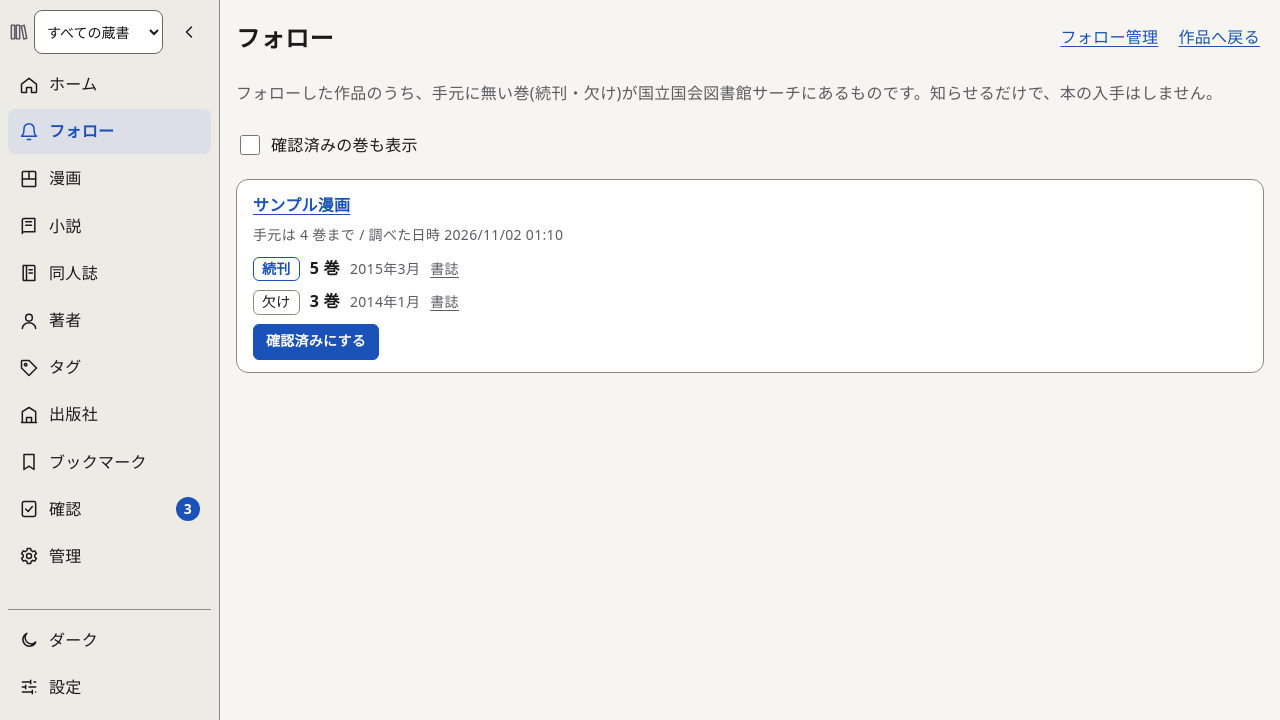
フォロー › 続刊・欠けが新しい発売日順に出て、確認済みにすると消える
Click the button "確認済みにする" at (316, 342), box left=253, top=324, right=379, bottom=360
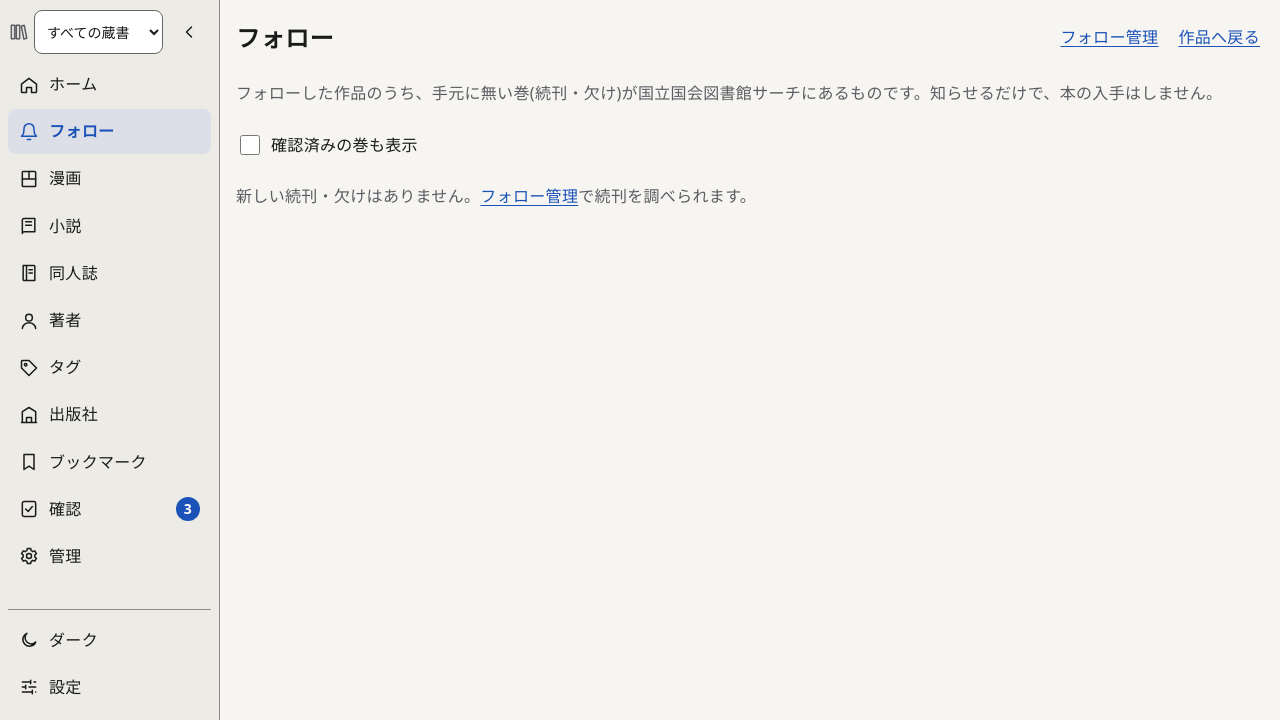
Expected: the text "新しい続刊・欠けはありません。 フォロー管理 で続刊を調べられます。" is shown, left=236, top=185, right=756, bottom=207
// 確認済みの巻も表示に切り替えると、確認済みとして出る
Click the checkbox labelled "確認済みの巻も表示" at (250, 145), box left=240, top=135, right=260, bottom=155
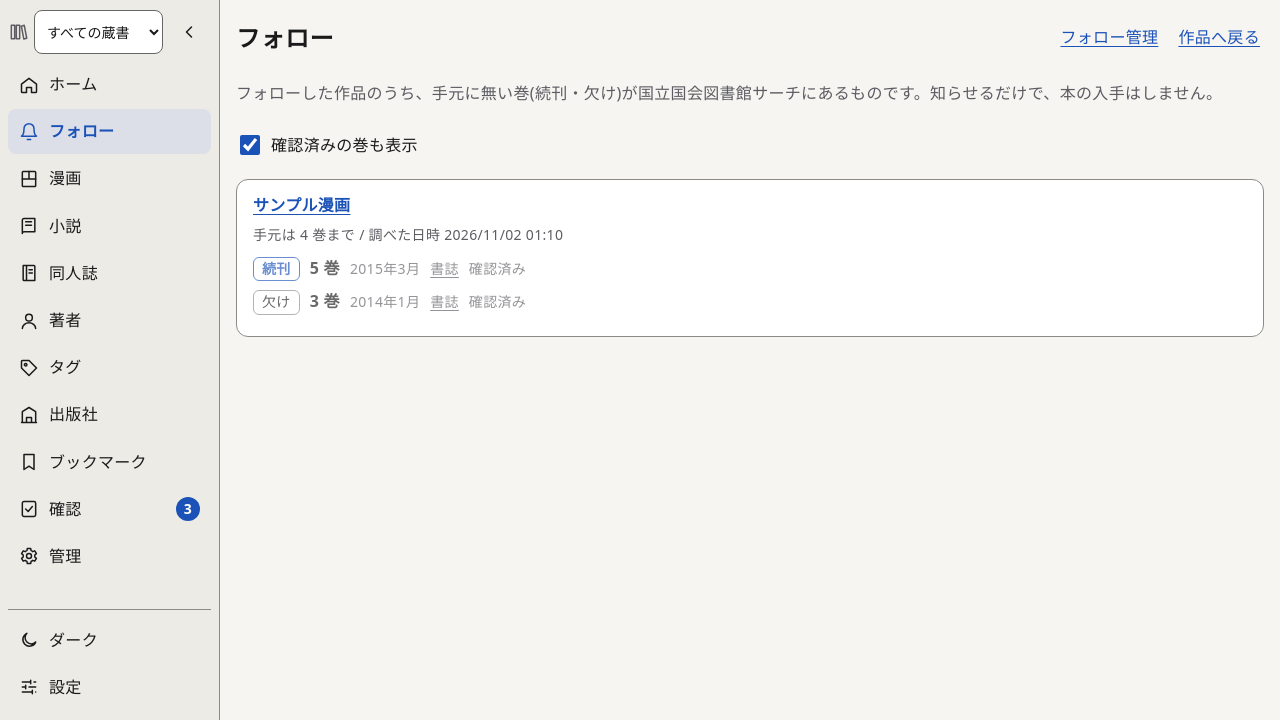
Expected: the text "確認済み" is shown 2 times, left=469, top=257, right=526, bottom=281; left=469, top=290, right=526, bottom=314
